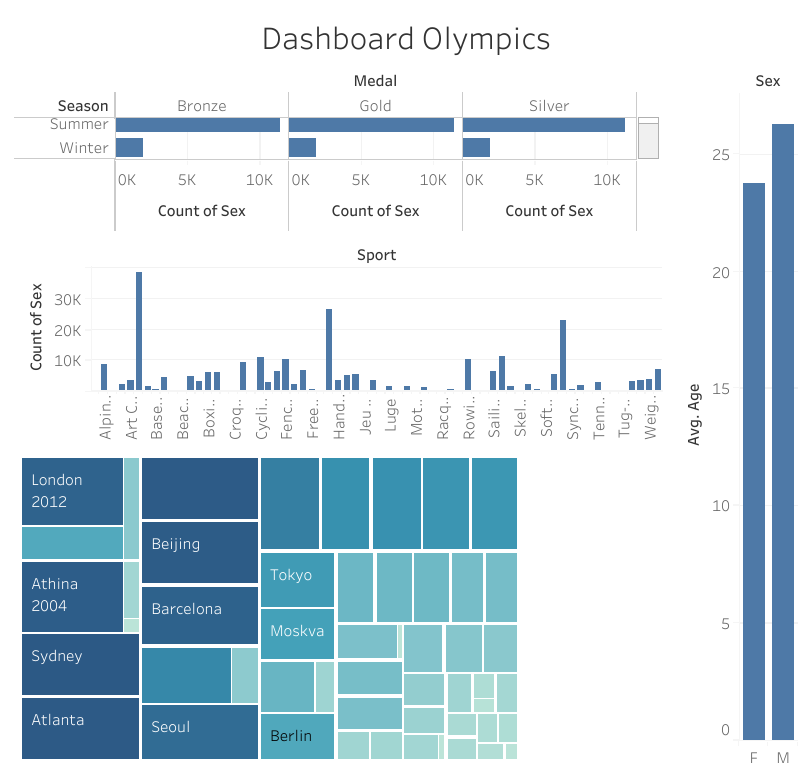

What the dashboard file says about the page in this screenshot:
{"tool":"tableau","page":{"name":"Dashboard 1","canvas":[650,860],"ordinal":0},"visuals":[{"type":"title","box":[8,10.1,634,53.1]},{"type":"worksheet","title":"Sheet 4","mark":"Automatic","rows":["Season"],"cols":["Medal","Sex"],"box":[8,63.2,526,191.9]},{"type":"worksheet","title":"Sheet 2","mark":"Automatic","rows":["Age"],"cols":["Sex"],"box":[534,63.2,108,786.7]},{"type":"worksheet","title":"Sheet 3","mark":"Automatic","rows":["Sex"],"cols":["Sport"],"box":[8,255.1,526,233.4]},{"type":"worksheet","title":"Sheet 5","mark":"Automatic","box":[8,488.5,526,361.4]}]}

Visuals, with their boxes on the page's 650x860 design canvas (x1, y1, x2, y2). These are canvas units, not pixel positions in the 811x781 screenshot, which may show the page scaled, cropped or inside an application window:
title: left=8, top=10, right=642, bottom=63
"Sheet 4" worksheet: left=8, top=63, right=534, bottom=255
"Sheet 2" worksheet: left=534, top=63, right=642, bottom=850
"Sheet 3" worksheet: left=8, top=255, right=534, bottom=488
"Sheet 5" worksheet: left=8, top=488, right=534, bottom=850
